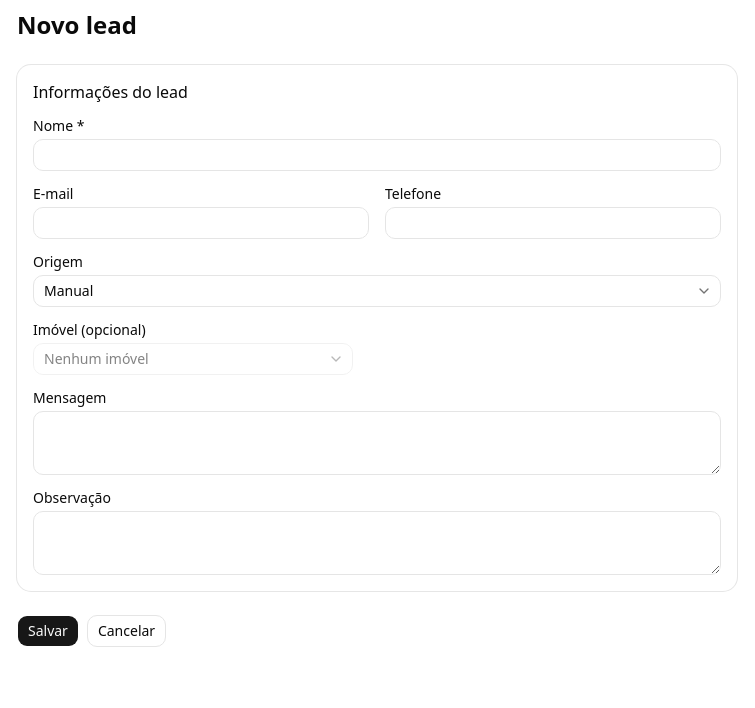
NewLeadPage › shows a safe error message and does not navigate when the mutation fails
In the field labelled "Nome *": (377, 155) [33,139,721,171], type "Maria Souza"
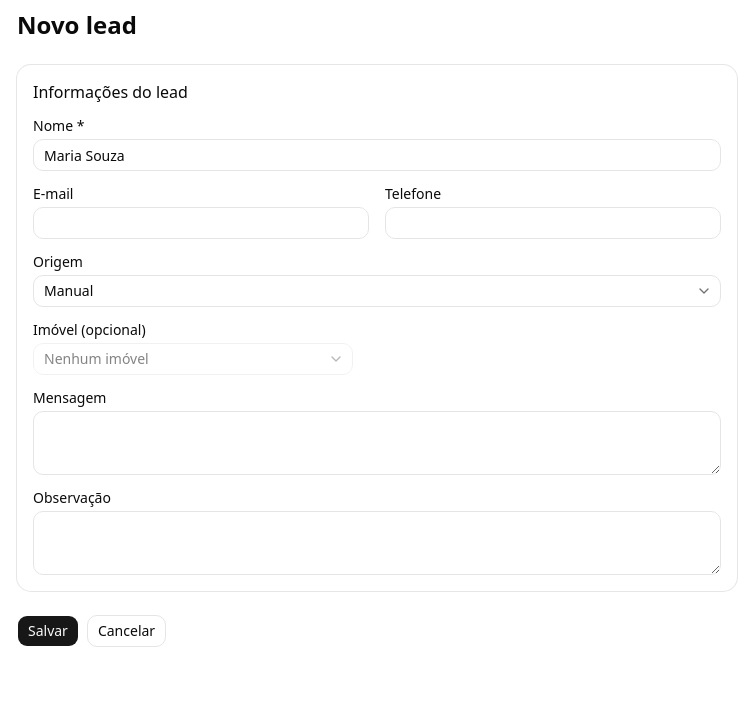
In the field labelled "E-mail": (201, 223) [33,207,369,239], type "maria@example.com"
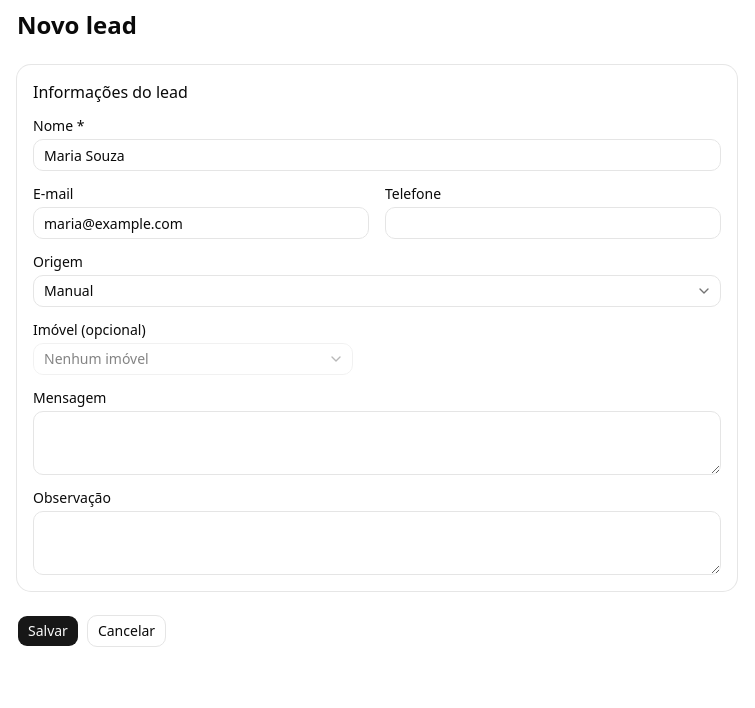
Click the button "Salvar": (48, 631) [17,615,79,647]
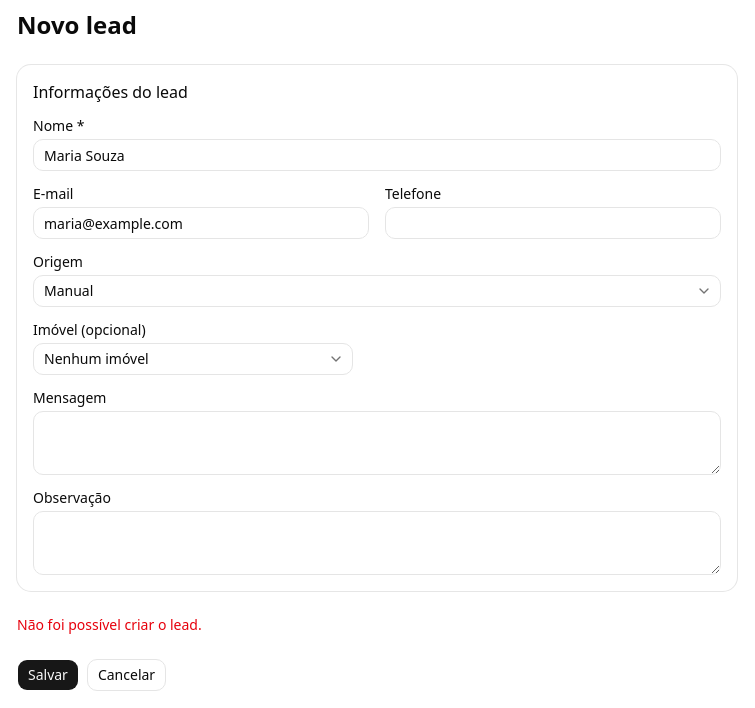
Result: the text "Não foi possível criar o lead." is shown at [17,615,202,634]
